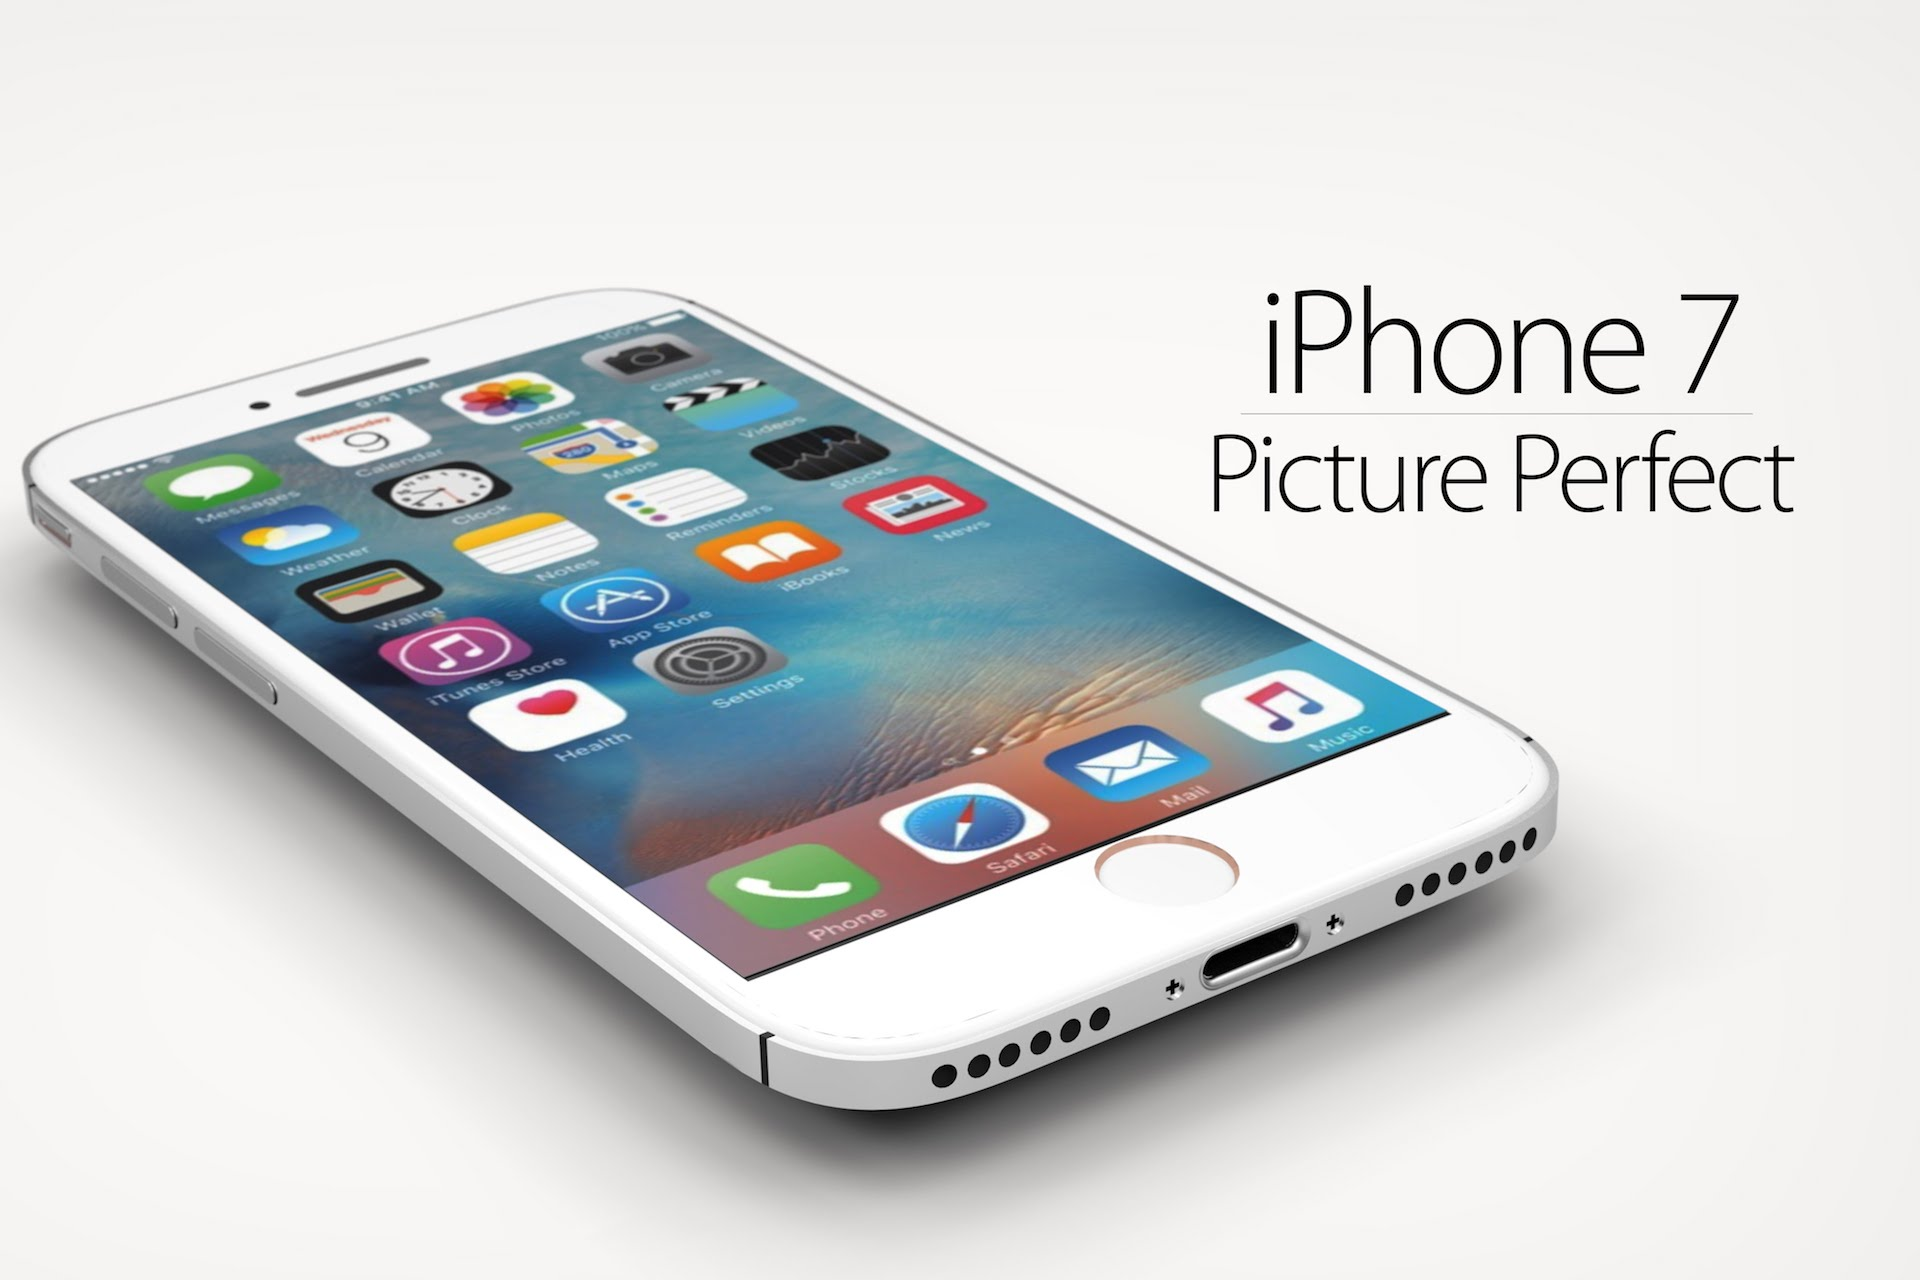smartphone: (19, 281, 1561, 1121)
